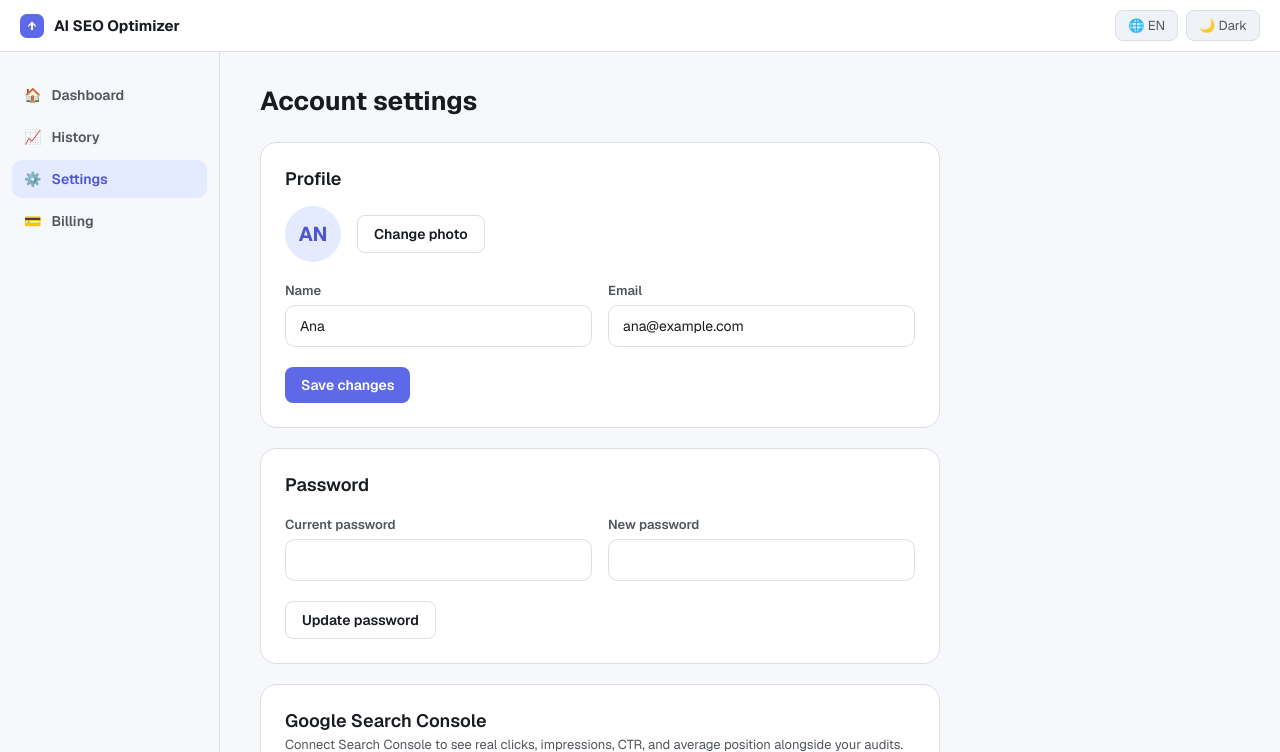
Settings: password › shows the server error message when the password update fails
Expected: the field showing "Ana" is shown, left=285, top=305, right=592, bottom=347
In the password field labelled "Current password": {"x": 438, "y": 560} left=285, top=539, right=592, bottom=581, type "wrong"
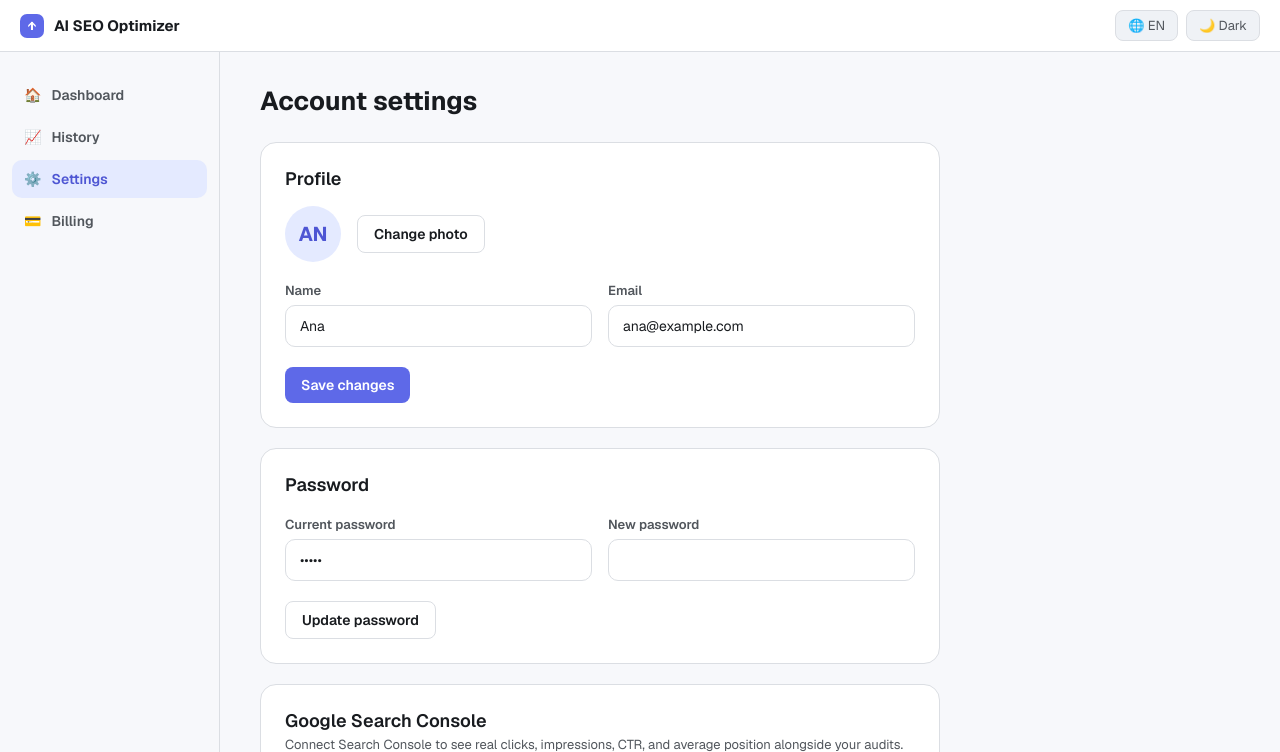
In the password field labelled "New password": {"x": 762, "y": 560} left=608, top=539, right=915, bottom=581, type "new-password-123"
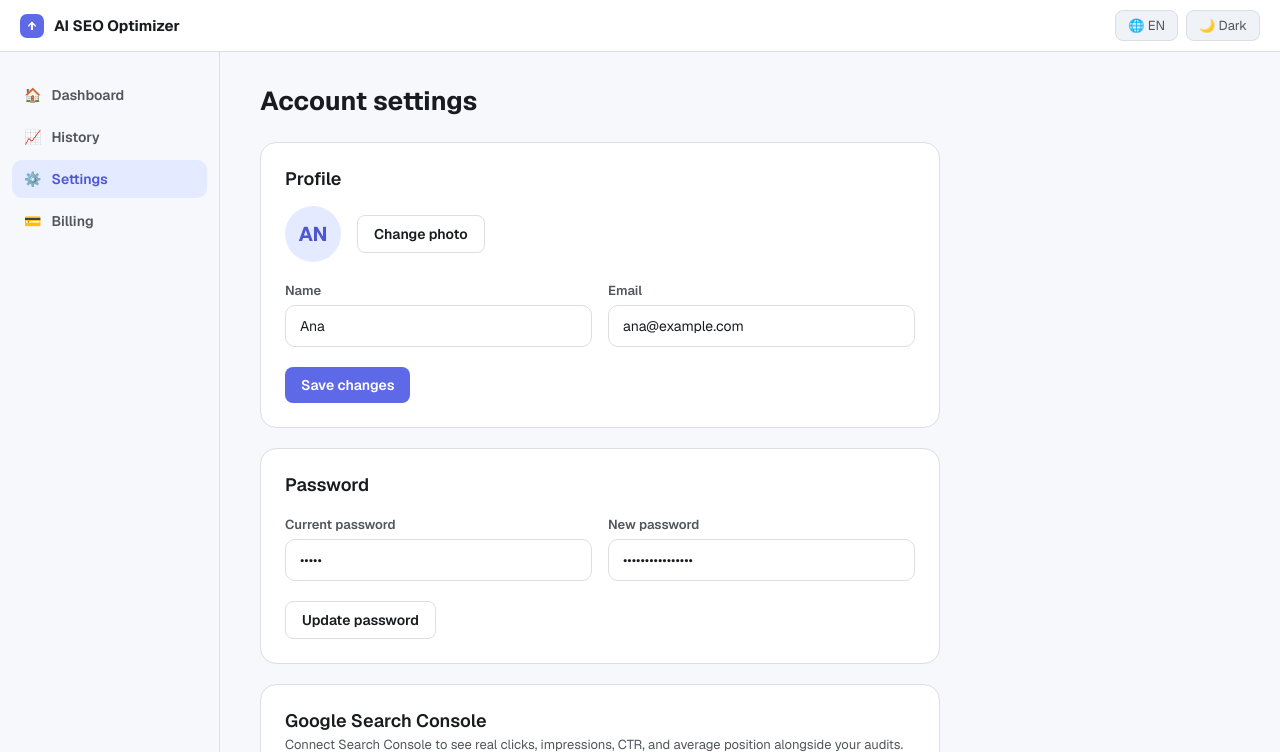
Click the button "Update password": {"x": 360, "y": 620} left=285, top=601, right=436, bottom=639
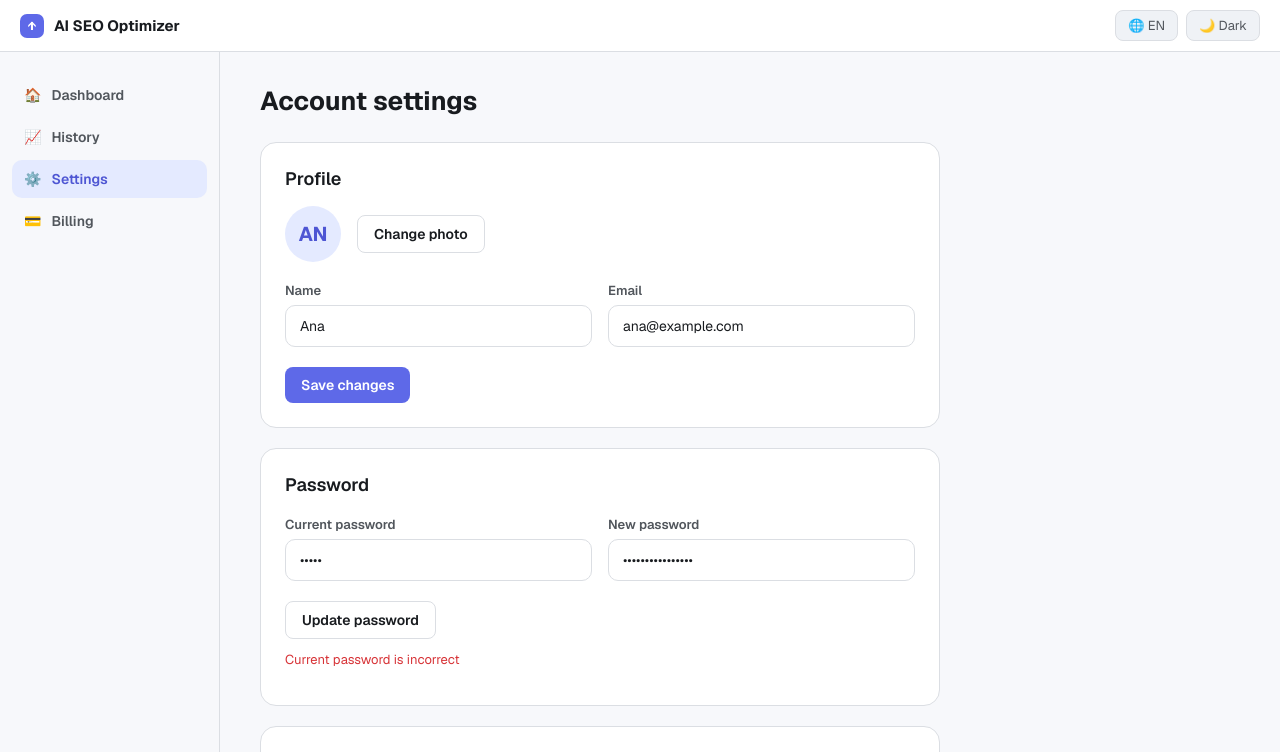
Expected: the text "Current password is incorrect" is shown, left=285, top=651, right=460, bottom=668
